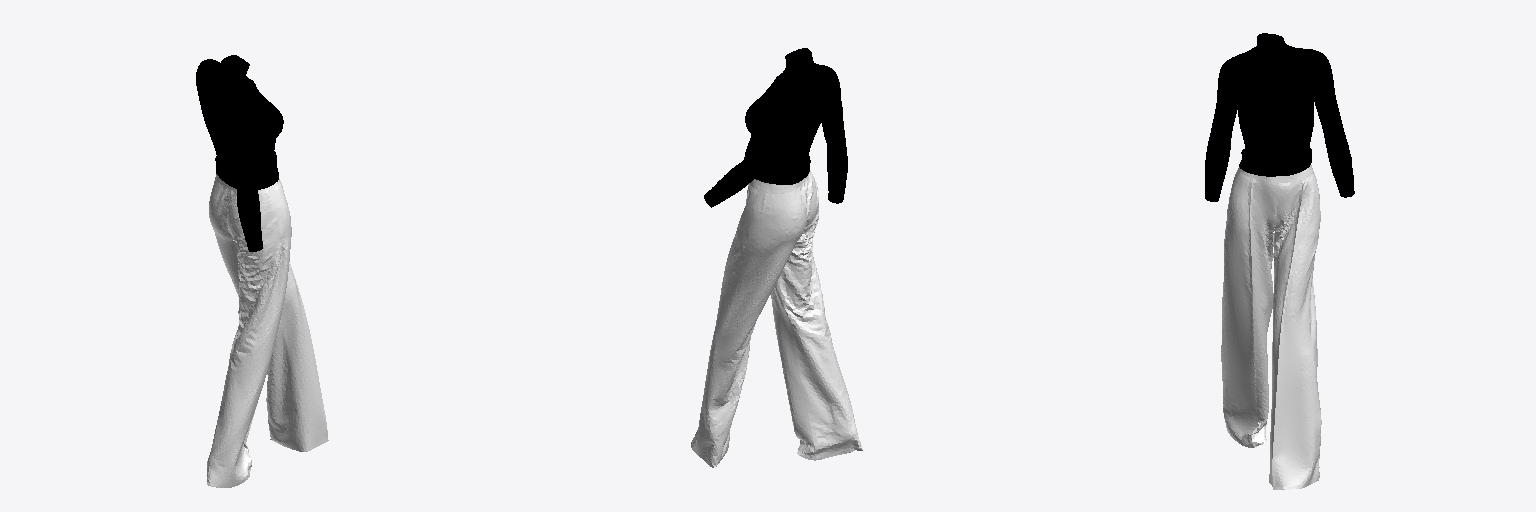
File: DA_HighNeck+WidePants_0000153.obj
The picture shows the model from 3 angles: view 1: azimuth 30°, elevation 25°; view 2: azimuth 150°, elevation 25°; view 3: azimuth 270°, elevation 25°; orthographic projection.
Size of the model in its own units: 0.5951 by 1.62 by 0.5334.